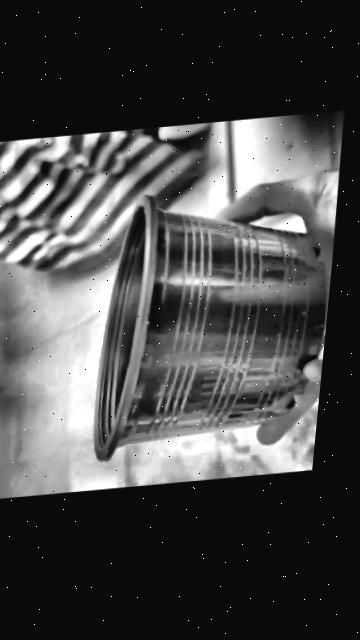pot: (93, 197, 325, 460)
